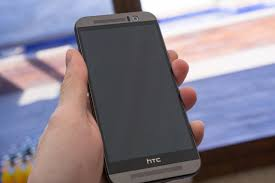htc: (68, 10, 204, 183)
